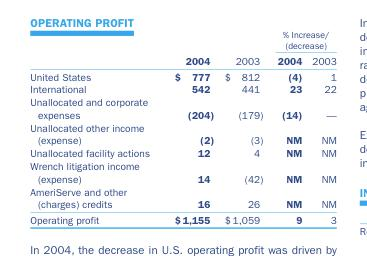table: (29, 29, 335, 225)
table column: (29, 29, 161, 225), (161, 29, 218, 225), (218, 29, 269, 225), (269, 29, 306, 225), (306, 29, 335, 225)
table column header: (29, 29, 335, 68)
table row: (29, 184, 335, 211), (29, 120, 335, 146), (29, 95, 335, 120), (29, 159, 335, 184), (29, 29, 335, 52), (29, 52, 335, 68), (29, 68, 335, 82), (29, 211, 335, 225), (29, 82, 335, 95), (29, 146, 335, 159)
table spanning cell: (161, 29, 218, 68), (218, 29, 269, 68), (269, 29, 335, 52)
